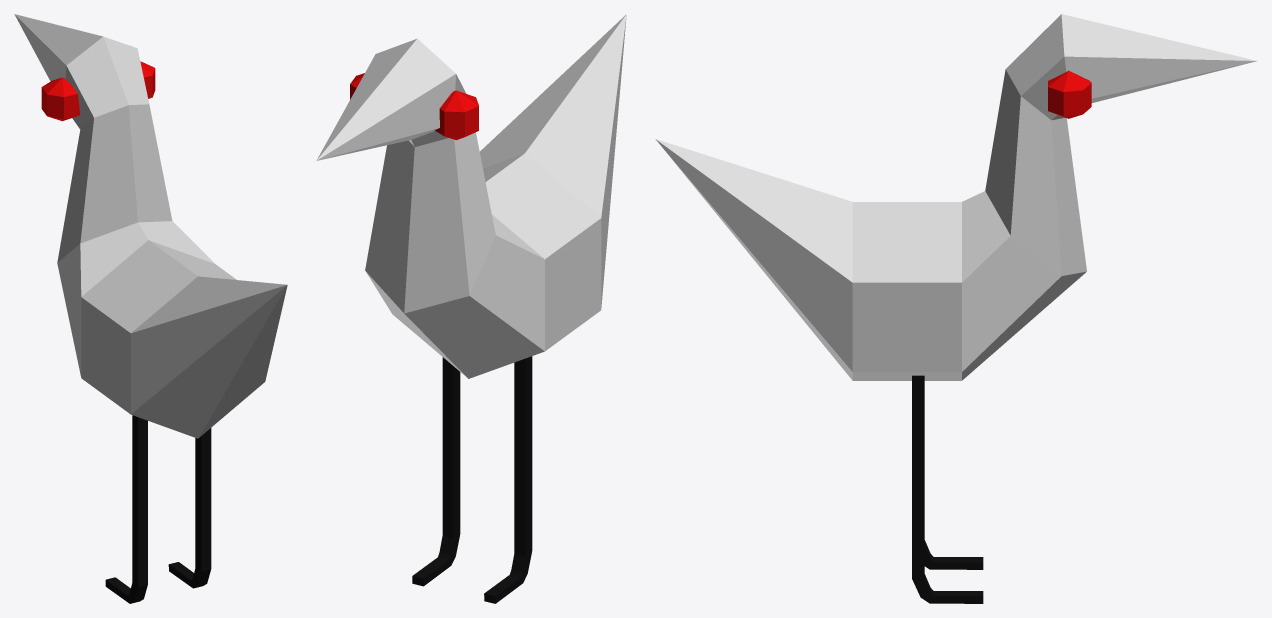
File: Mpc_1.fbx
3 renders of one model, left to right at view 1: azimuth 30°, elevation 25°; view 2: azimuth 150°, elevation 25°; view 3: azimuth 270°, elevation 25°, orthographic. The views are drawn at different scales.
Parts seen in each view (by area): view 1: Cone; view 2: Cone; view 3: Cone.
Part boxes in pixels (x1,y1,x2,y2): Cone: [14, 14, 287, 603]; Cone: [316, 14, 626, 603]; Cone: [655, 14, 1256, 603].
Bounding box in the file's own units: 173 × 635 × 610.
